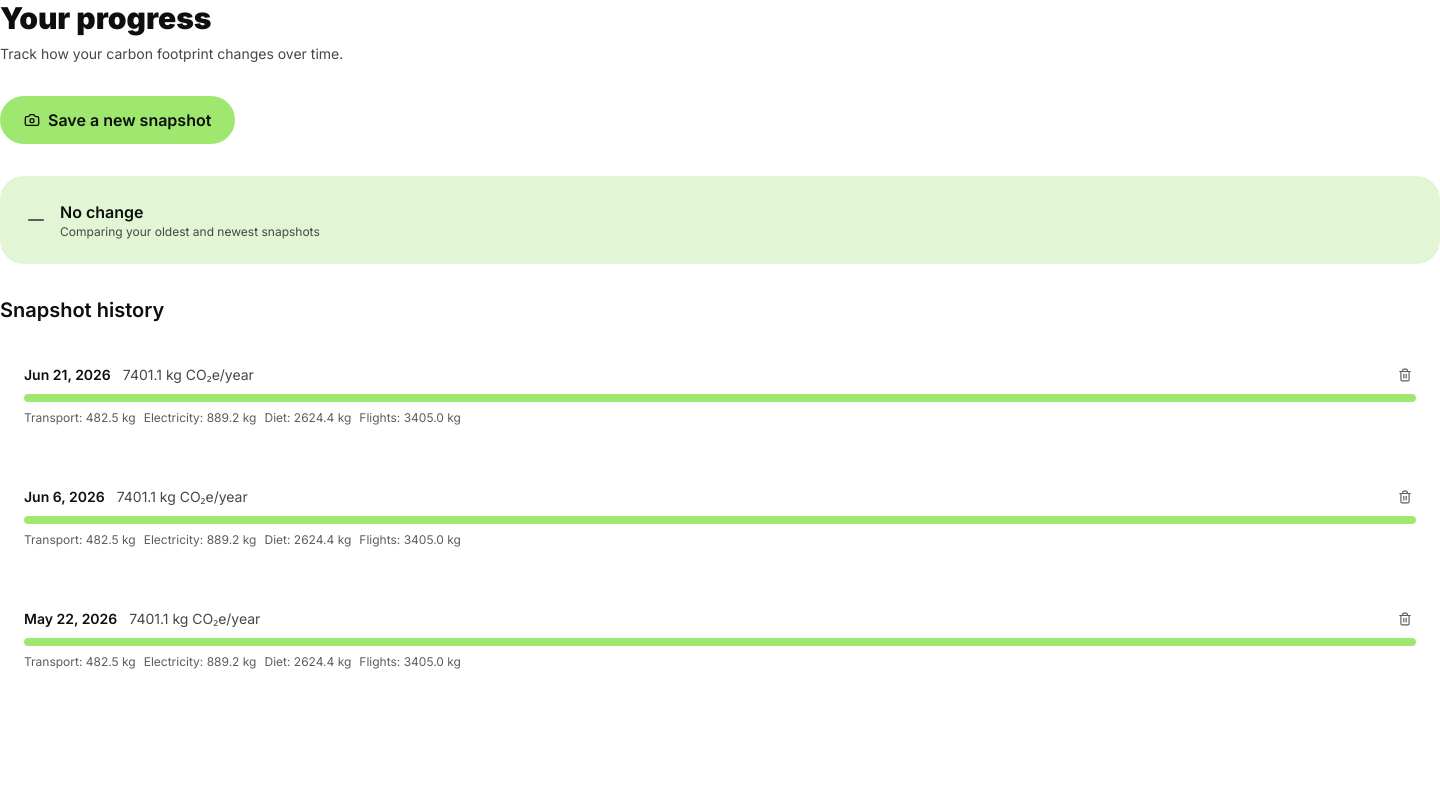
Test: ProgressPage — snapshot deletion › opens confirmation modal when delete button is clicked
The width and height of the screenshot is (1440, 810).
Click the button named "Delete snapshot" at point(1405, 375), box [1394, 364, 1416, 386]
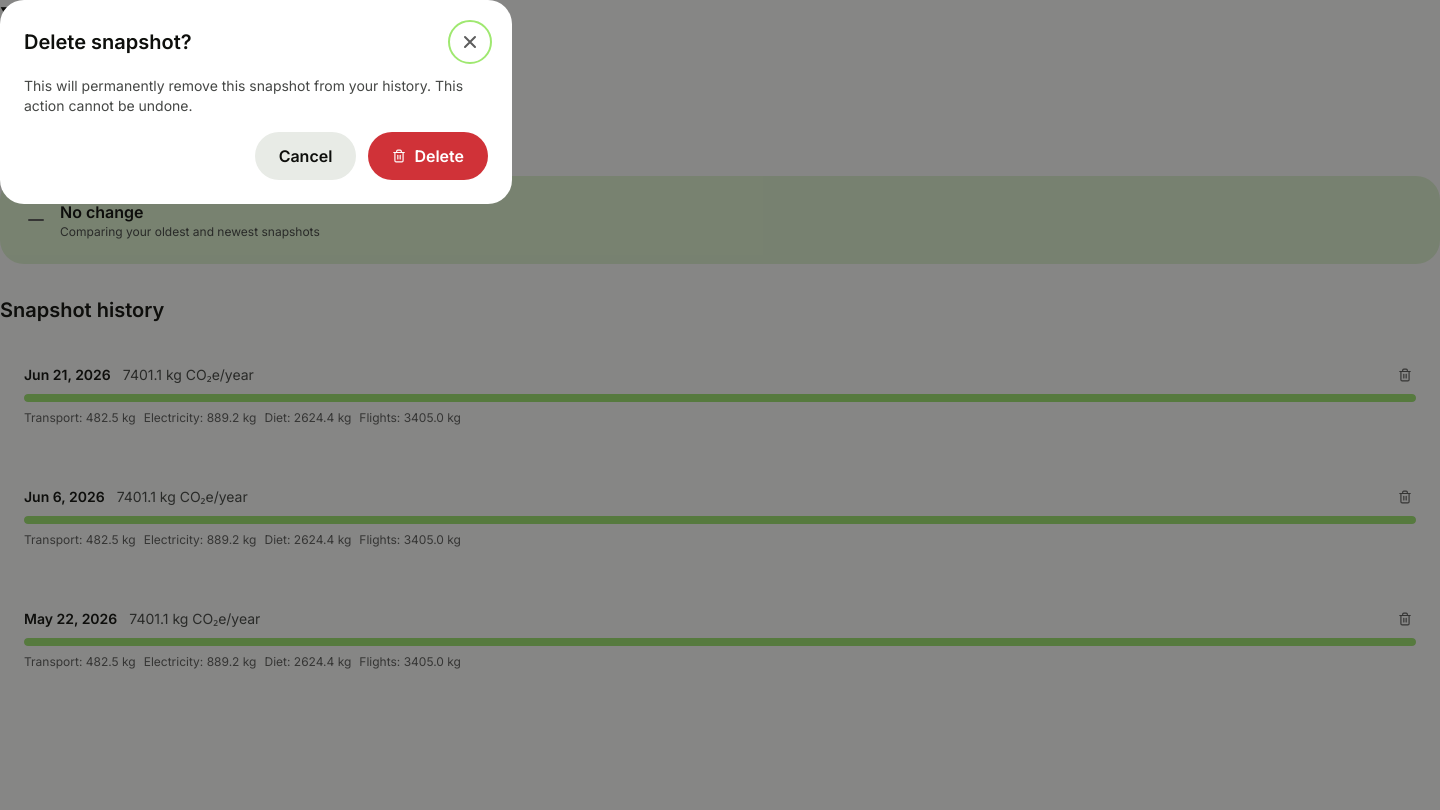
Now the heading "Delete snapshot?" is shown, box [24, 28, 192, 56]
Now the text "permanently remove" is shown, box [24, 77, 463, 114]
